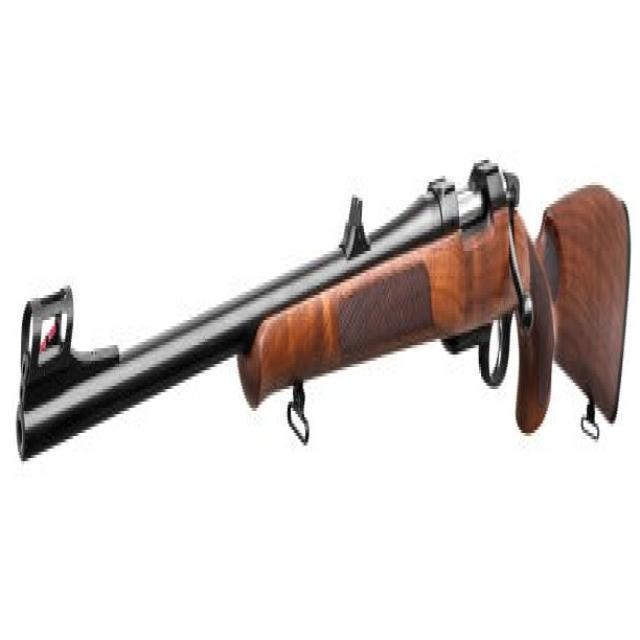rifle: (12, 134, 633, 480)
